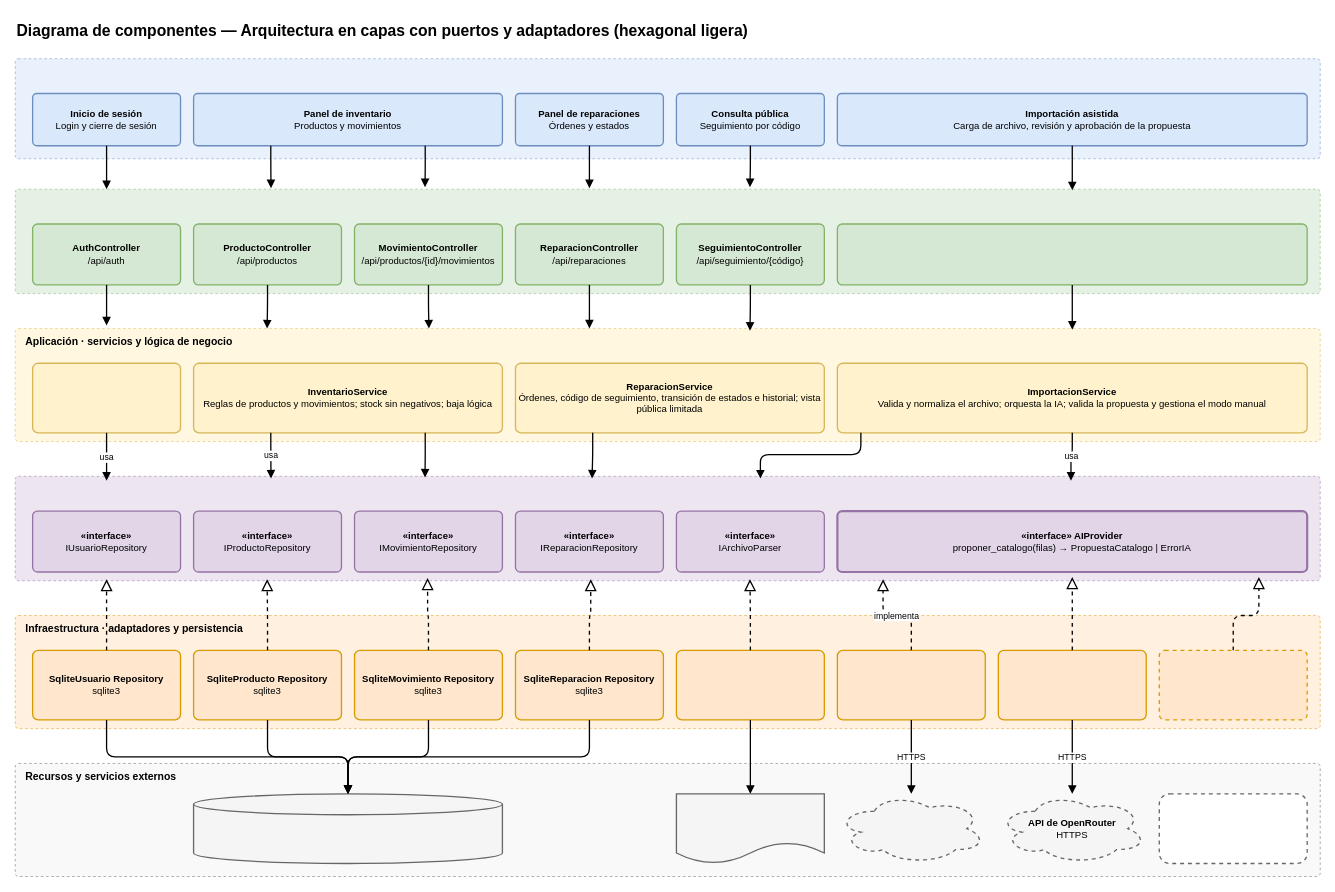
Some shapes in this 1335 by 892 pixel diagram are drawn without their labels. The box of each missing label's shape, as (x1, y1, x2, y2) in pixels:
API de Groq HTTPS: (836, 793, 986, 864)
Archivo cargado CSV/XLSX temporal: (675, 793, 825, 864)
ArchivoParser CSV y Excel: (675, 649, 825, 720)
AuthService Autenticación y autorización por rol: (32, 362, 181, 433)
Base de datos SQLite gestortech.db · PRAGMA foreign_keys=ON: (193, 793, 503, 864)
Configuración Variables de entorno: claves de API, IA_HABILITADA: (1158, 793, 1307, 864)
GroqAdapter candidato inicial: (836, 649, 986, 720)
ImportacionController /api/ia/importacion/propuesta: (836, 223, 1307, 285)
NullAIProvider IA desactivada y pruebas: (1158, 649, 1307, 720)
OpenRouterAdapter alternativa: (997, 649, 1146, 720)
Presentación · interfaz web (HTML, CSS, JavaScript): (14, 58, 1320, 159)
Puertos · interfaces del dominio (contratos): (14, 475, 1320, 581)
Puntos de entrada · controladores Flask (Blueprints, API REST/JSON): (14, 188, 1320, 294)
